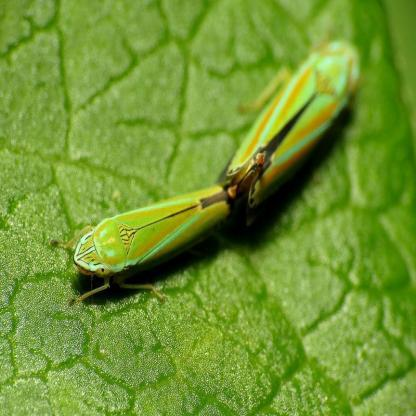green-leafhopper: (49, 39, 360, 306)
